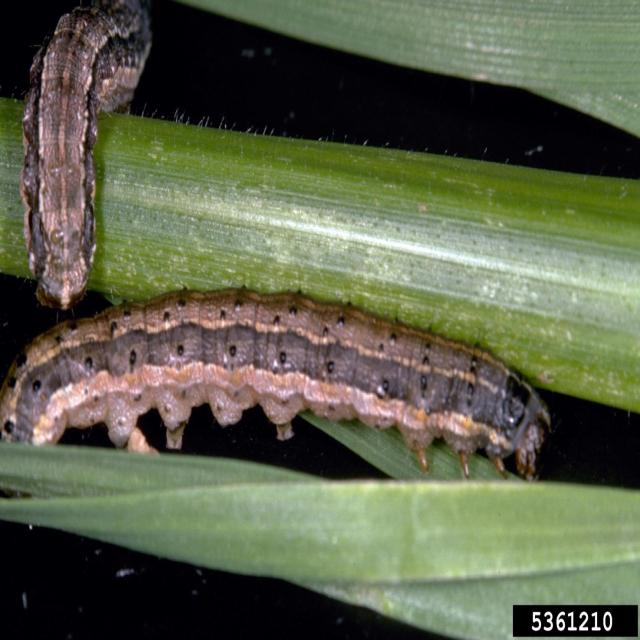armyworm: (0, 286, 558, 511), (10, 0, 151, 323)
